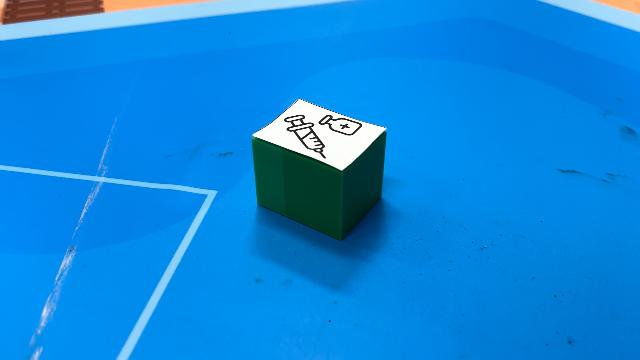syringe: (252, 99, 386, 241)
